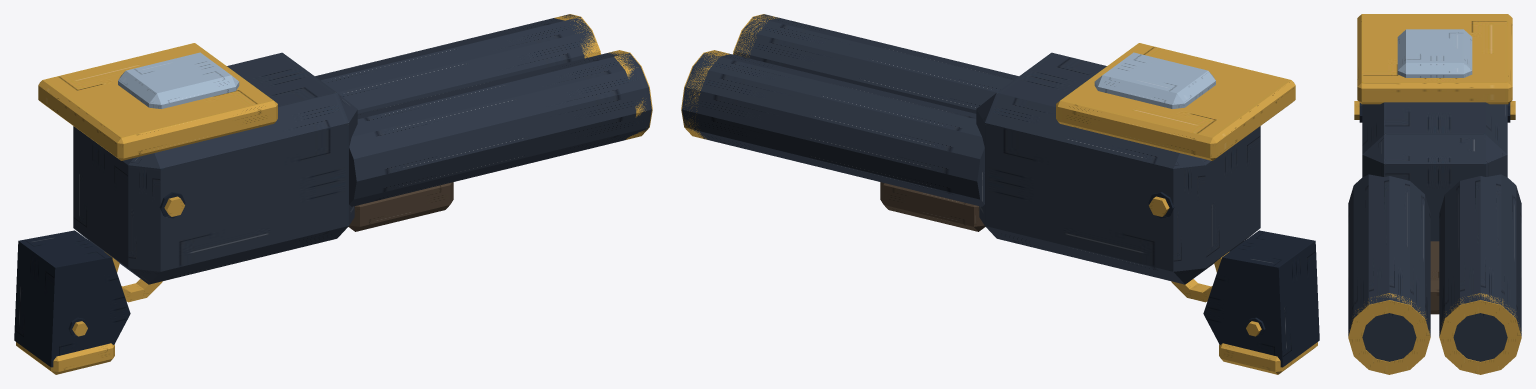
File: scatter.glb
The picture shows the model from 3 angles, left to right: view 1: azimuth 30°, elevation 25°; view 2: azimuth 150°, elevation 25°; view 3: azimuth 270°, elevation 25°; orthographic projection. The views are drawn at different scales.
Parts seen in each view (by area): view 1: body, barrel, grip, core; view 2: body, barrel, grip, core; view 3: barrel, body, core.
Boxes of the visible parts, x1,y1,x2,y2 form: body: [38, 43, 357, 302]; barrel: [315, 14, 652, 231]; grip: [14, 230, 130, 374]; core: [118, 52, 239, 108]; body: [976, 43, 1295, 302]; barrel: [681, 14, 1018, 231]; grip: [1203, 230, 1319, 374]; core: [1094, 52, 1215, 108]; barrel: [1348, 174, 1521, 374]; body: [1354, 14, 1515, 241]; core: [1397, 29, 1472, 77].
Bounding box in the file's own units: 0.699 × 0.297 × 0.198.
5 materials, 5 textured.
